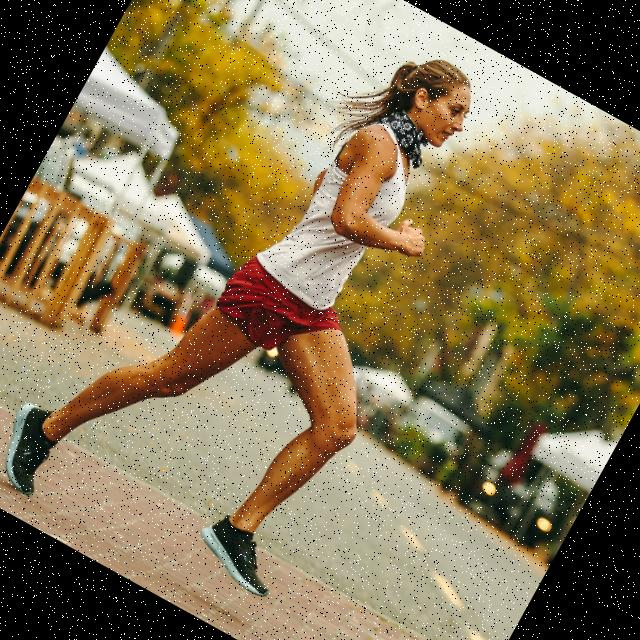Person: (0, 0, 537, 621)
